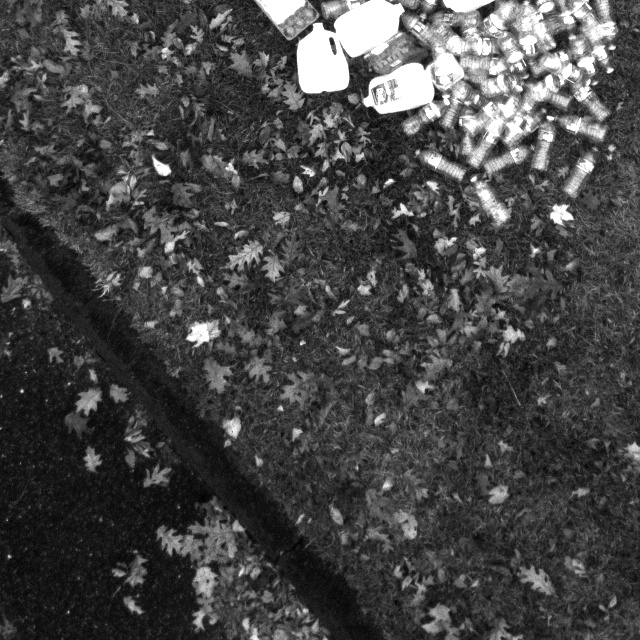bottle: (577, 7, 616, 76), (563, 68, 614, 119), (467, 108, 511, 166), (435, 70, 475, 133), (477, 137, 537, 177), (560, 144, 602, 201), (412, 147, 473, 186), (517, 0, 557, 59), (400, 93, 450, 138), (516, 74, 575, 112), (525, 60, 578, 101), (467, 173, 510, 223), (515, 76, 576, 111), (493, 30, 532, 81), (441, 30, 505, 61), (554, 112, 611, 143), (397, 13, 442, 51), (566, 24, 598, 76), (526, 119, 555, 171), (446, 74, 486, 110), (452, 54, 509, 75), (479, 72, 521, 98), (458, 109, 498, 134)
can: (293, 19, 352, 96), (361, 59, 436, 119), (335, 0, 406, 62)
container: (361, 33, 430, 76), (426, 48, 465, 94)
